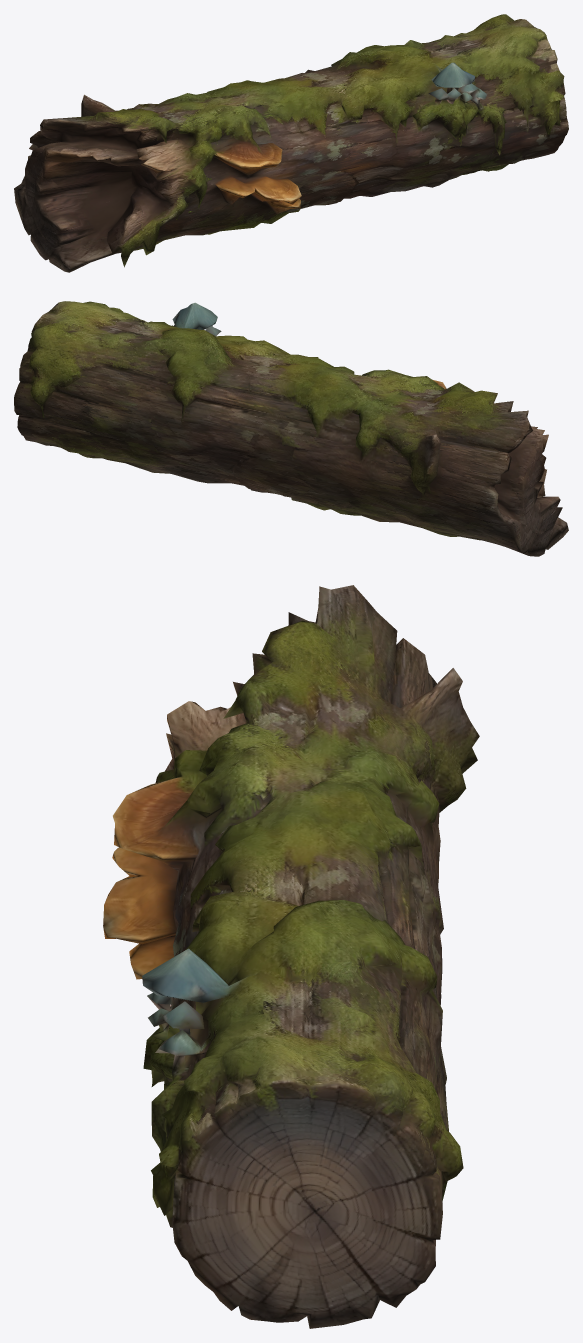
Rendered from tronco-hongos.glb.
3 renders of one model, top to bottom at view 1: azimuth 30°, elevation 25°; view 2: azimuth 150°, elevation 25°; view 3: azimuth 270°, elevation 25°, orthographic. The views are drawn at different scales.
Visible parts, largest first — view 1: tripo_node_c2f2662c-443c-4436-b1e1-1beae179e05e; view 2: tripo_node_c2f2662c-443c-4436-b1e1-1beae179e05e; view 3: tripo_node_c2f2662c-443c-4436-b1e1-1beae179e05e.
Part boxes in pixels (x1,y1,x2,y2): tripo_node_c2f2662c-443c-4436-b1e1-1beae179e05e: [14, 14, 568, 272]; tripo_node_c2f2662c-443c-4436-b1e1-1beae179e05e: [14, 301, 568, 556]; tripo_node_c2f2662c-443c-4436-b1e1-1beae179e05e: [103, 585, 479, 1328].
Bounding box in the file's own units: 1 × 0.2924 × 0.3337.
Materials: 1 (1 with a texture image).
